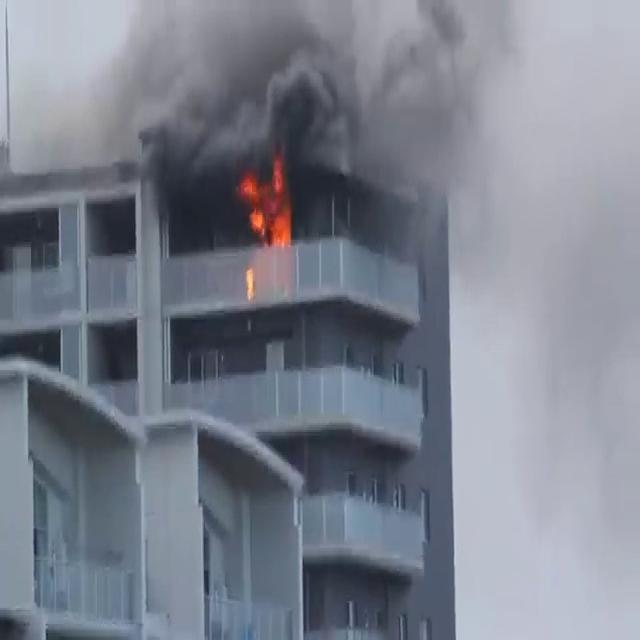Fire: (235, 156, 297, 258)
Smoke: (96, 0, 634, 252)
